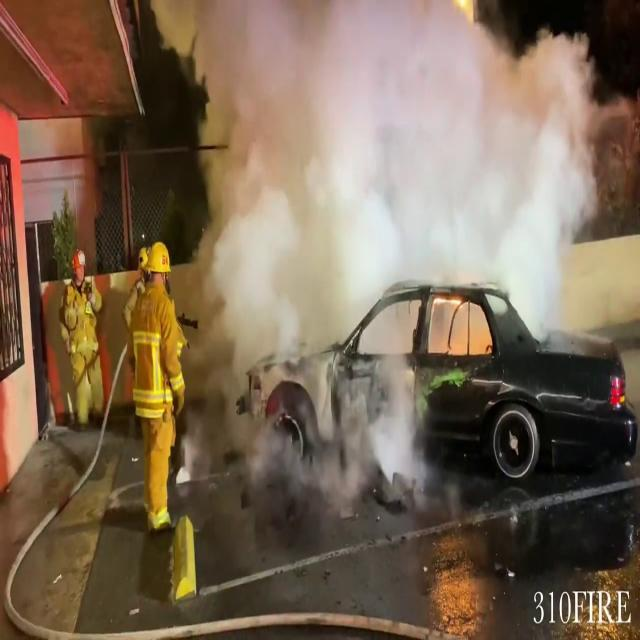Smoke: (172, 1, 620, 320), (184, 342, 433, 530)
